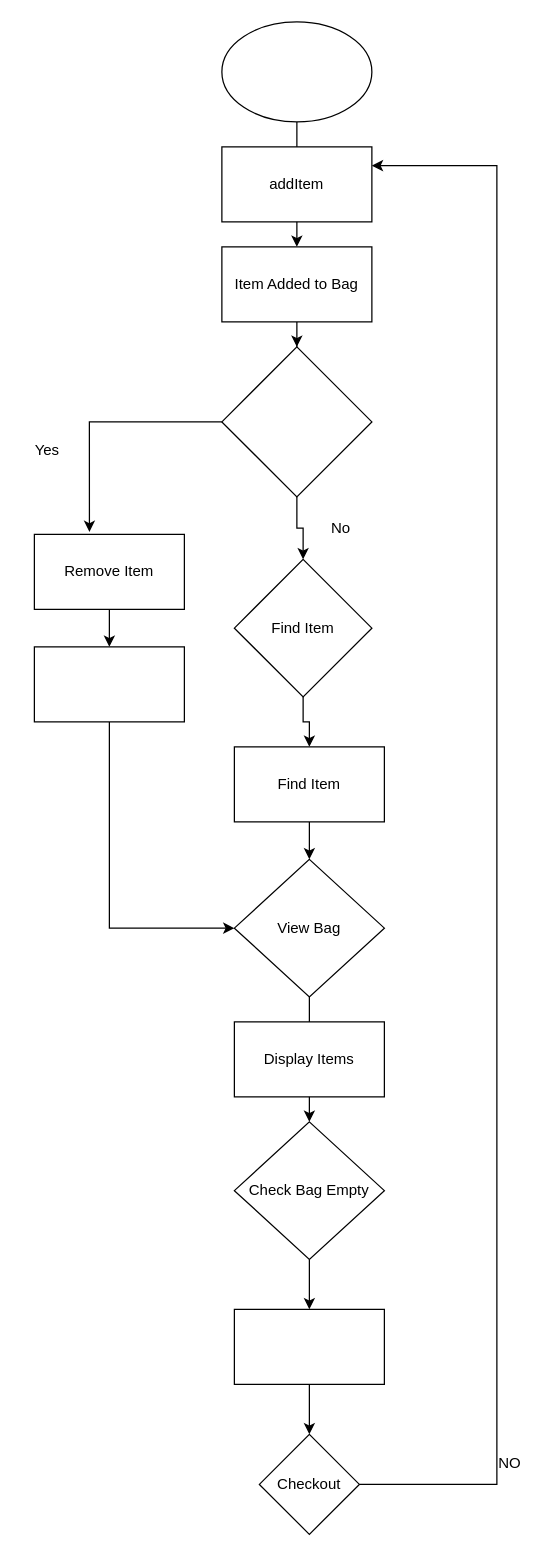
Image size: 555x1556. Some labels were removed from this diagram. The shapes that lost their labels are listed below. From the top down, each one's centre as x and y in pixels, then its label:
the point at 296,71: START
the point at 296,421: removeItem
the point at 108,684: Item Removed from Bag
the point at 308,1346: Check if Bag is Empty
